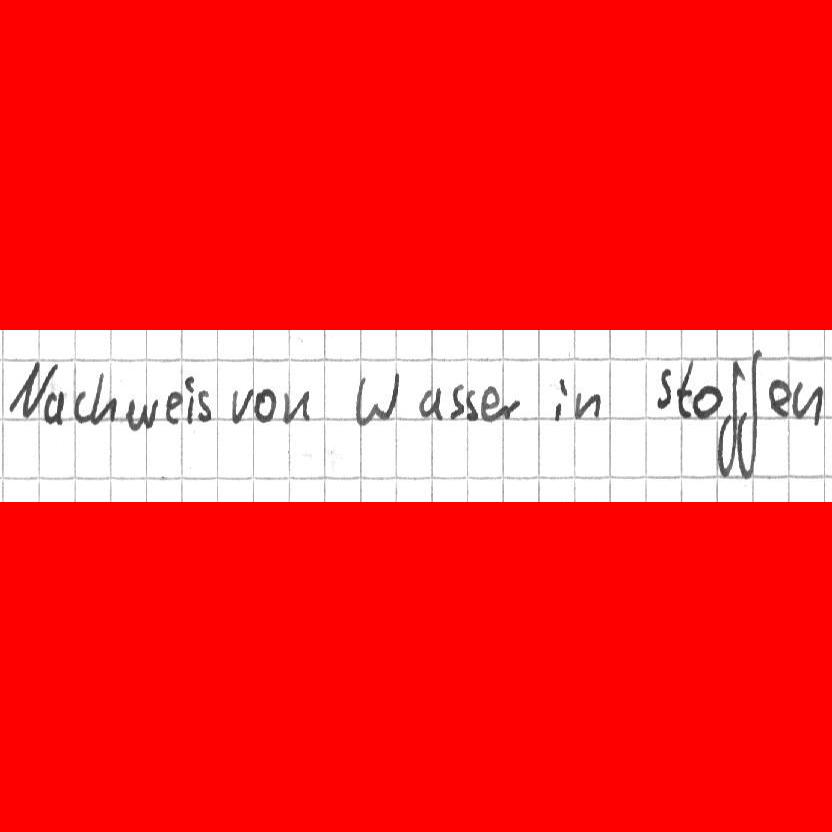Char: (736, 346, 767, 475), (4, 358, 58, 420), (717, 357, 744, 478), (351, 370, 401, 426), (789, 377, 826, 428), (89, 371, 117, 426), (673, 355, 696, 421), (690, 382, 723, 422), (281, 385, 313, 426), (124, 396, 159, 430), (416, 385, 446, 421), (551, 375, 572, 423), (654, 365, 675, 413), (767, 375, 791, 417), (229, 387, 254, 427), (253, 386, 278, 424), (478, 382, 501, 423), (573, 389, 602, 421), (42, 388, 66, 426), (494, 396, 524, 421), (182, 372, 196, 425), (164, 388, 184, 425), (73, 387, 92, 425), (448, 381, 465, 420), (196, 387, 213, 422), (464, 387, 479, 422)
